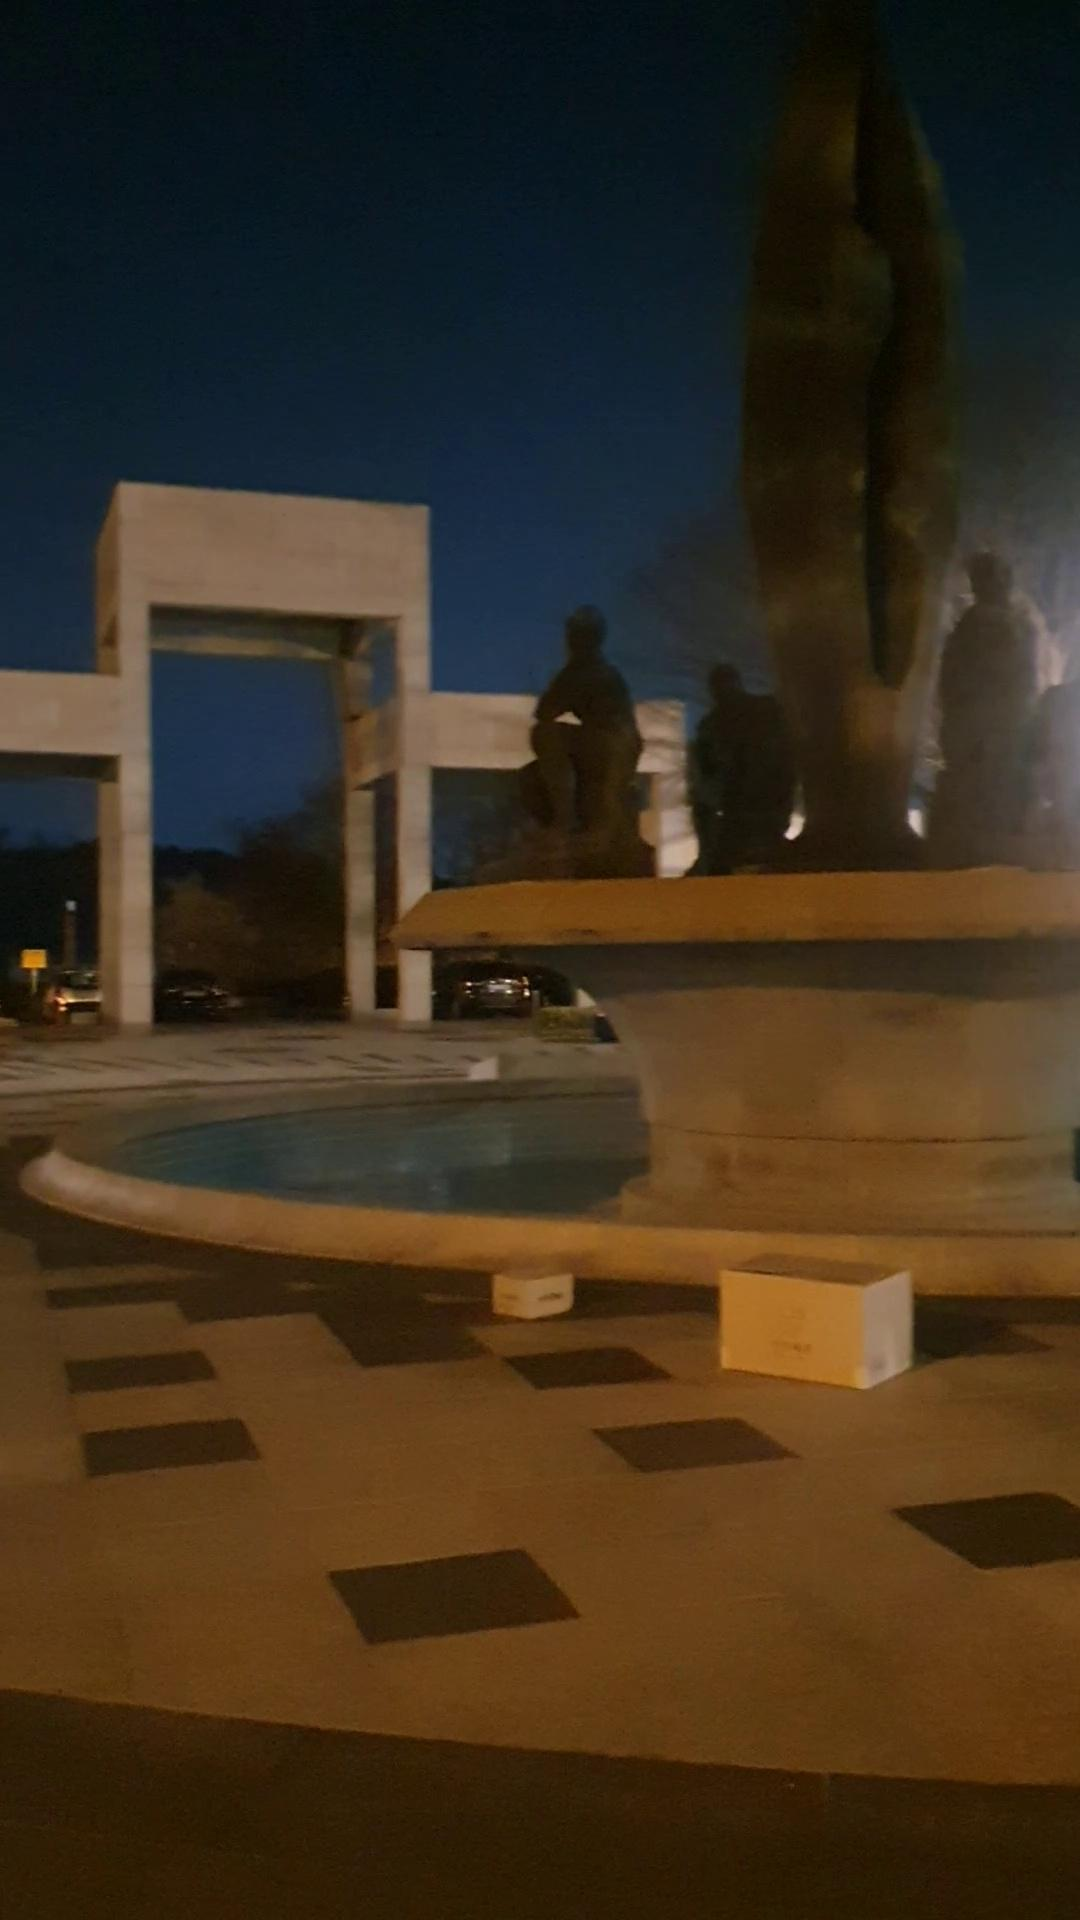Box: (711, 1236, 930, 1393), (483, 1247, 578, 1338)
